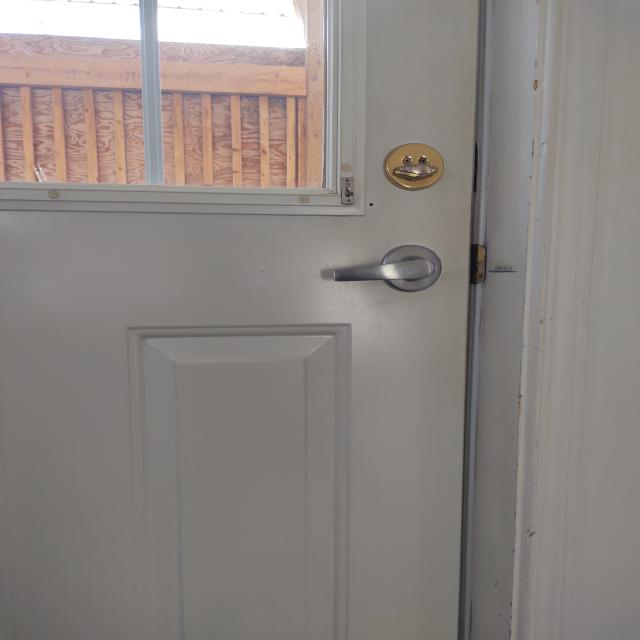door-handle: (332, 245, 441, 292)
